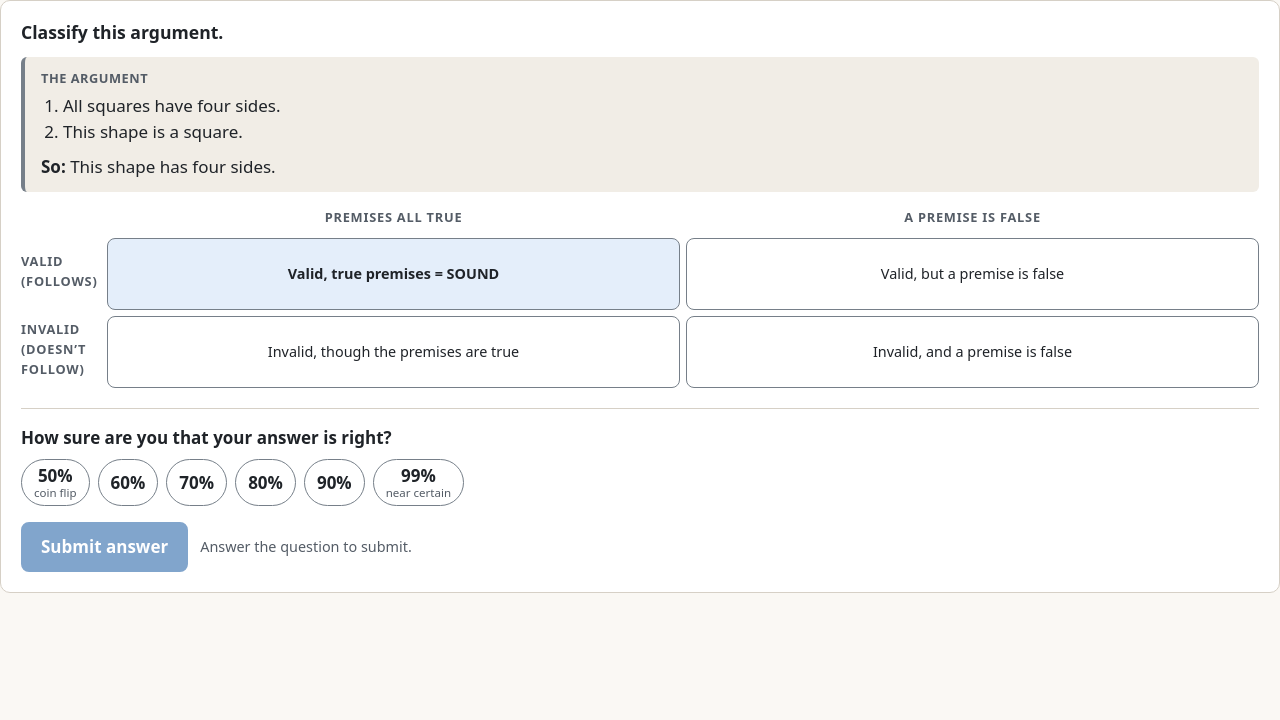
Test case: ValiditySoundnessGrid › selects a cell and explains the right one
This screenshot has width=1280, height=720.
Click the radio button labelled "Valid, but a premise is false" at point(972, 274), box [686, 238, 1259, 310]
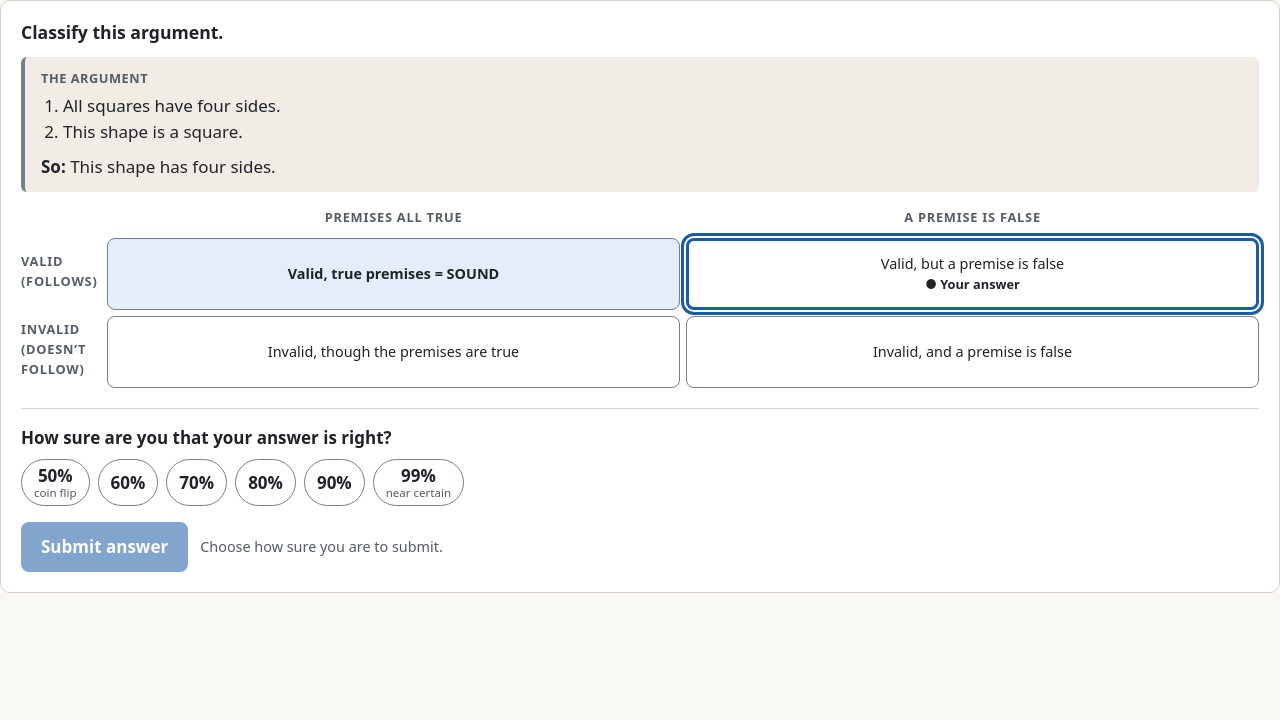
Click the radio button labelled "80%" at point(266, 482), box [235, 459, 296, 506]
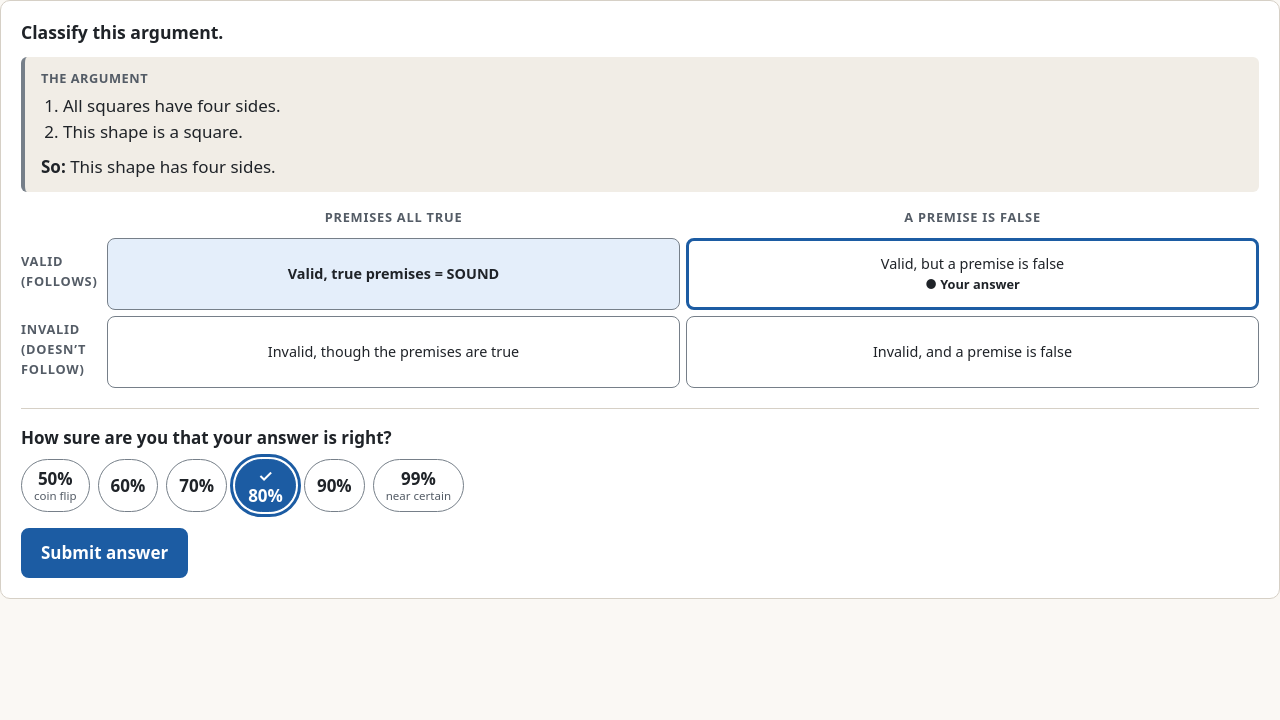
Click the button "Submit answer" at point(105, 553), box [21, 528, 188, 578]
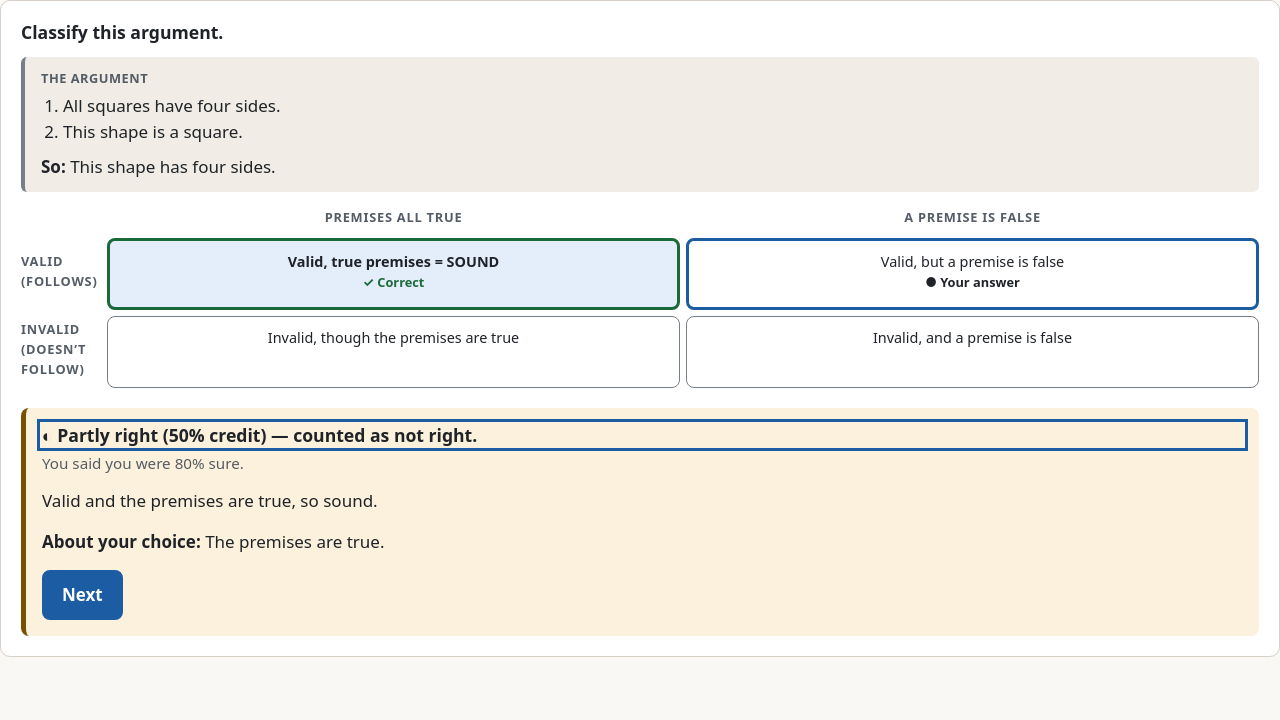
Expected: the text "Valid and the premises are true, so sound." is shown, [42, 489, 378, 512]
Expected: the text "About your choice:" is shown, [42, 530, 205, 553]
